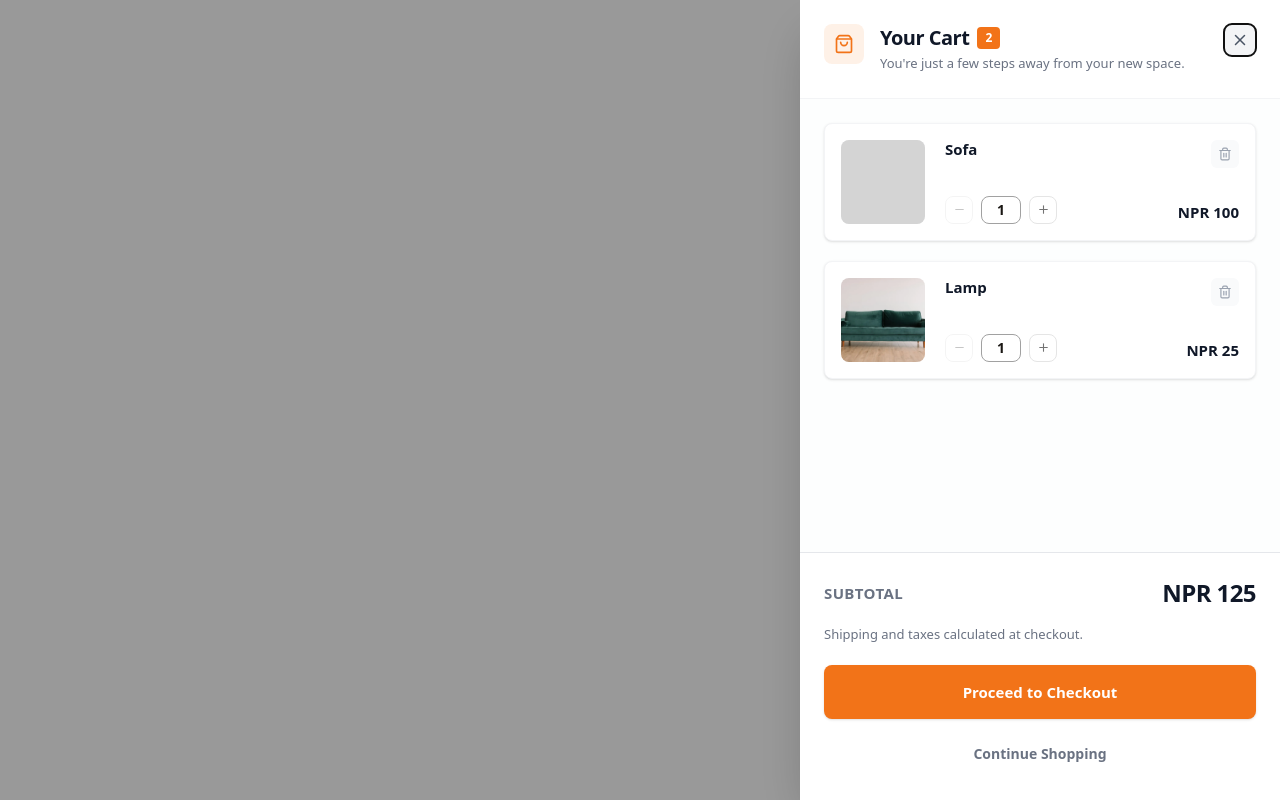
Test: CartSlider — guest cart (real stores) › remove flows through the real guest store
Note: The row's first button is the trash/remove control (icon-only).
Click the button without text in the row of "Sofa": coordinates (1225, 154) [1211,140,1239,168]
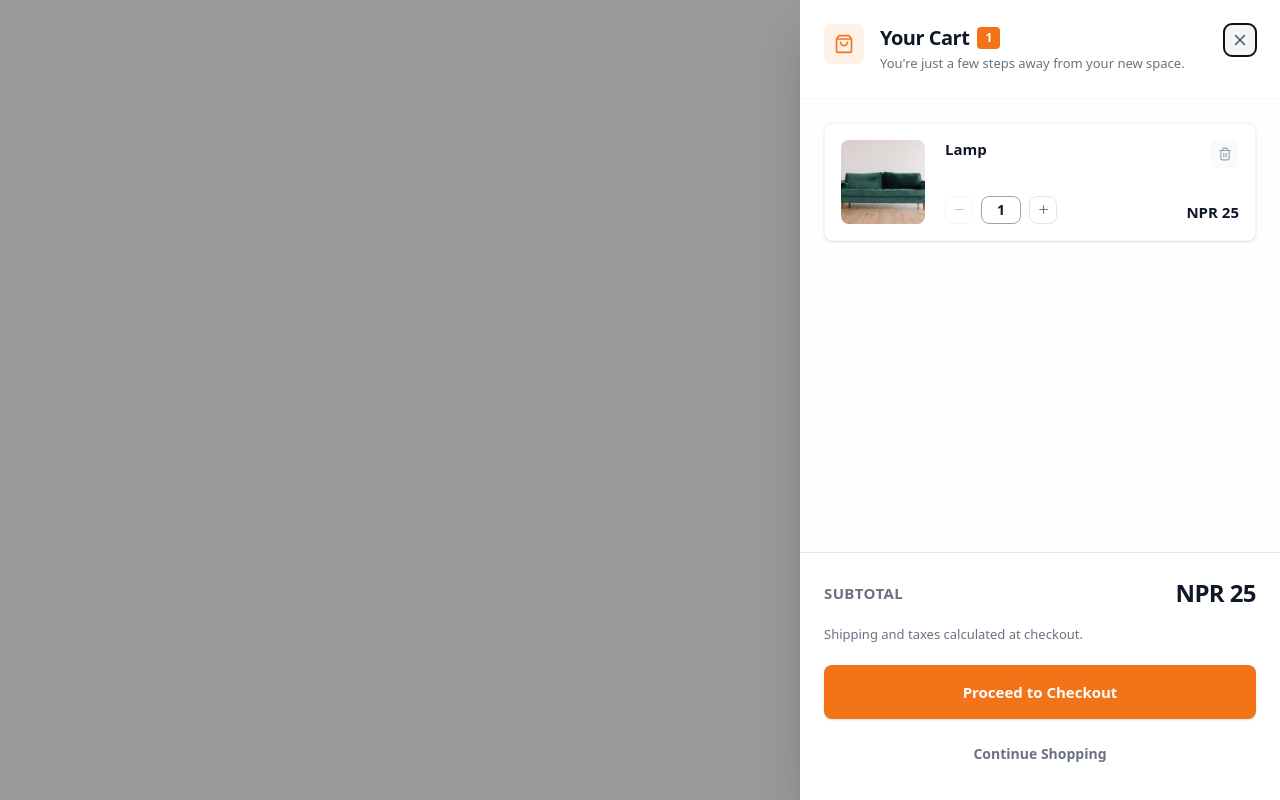
Expected: the link "Sofa" is gone
Expected: the text "NPR 25" is shown 2 times, [1186,201,1239,224]; [1176,577,1256,609]
